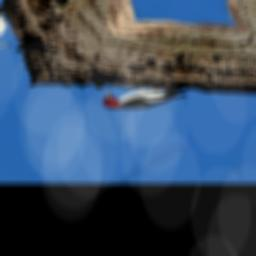Woodpecker: (82, 62, 204, 129)
